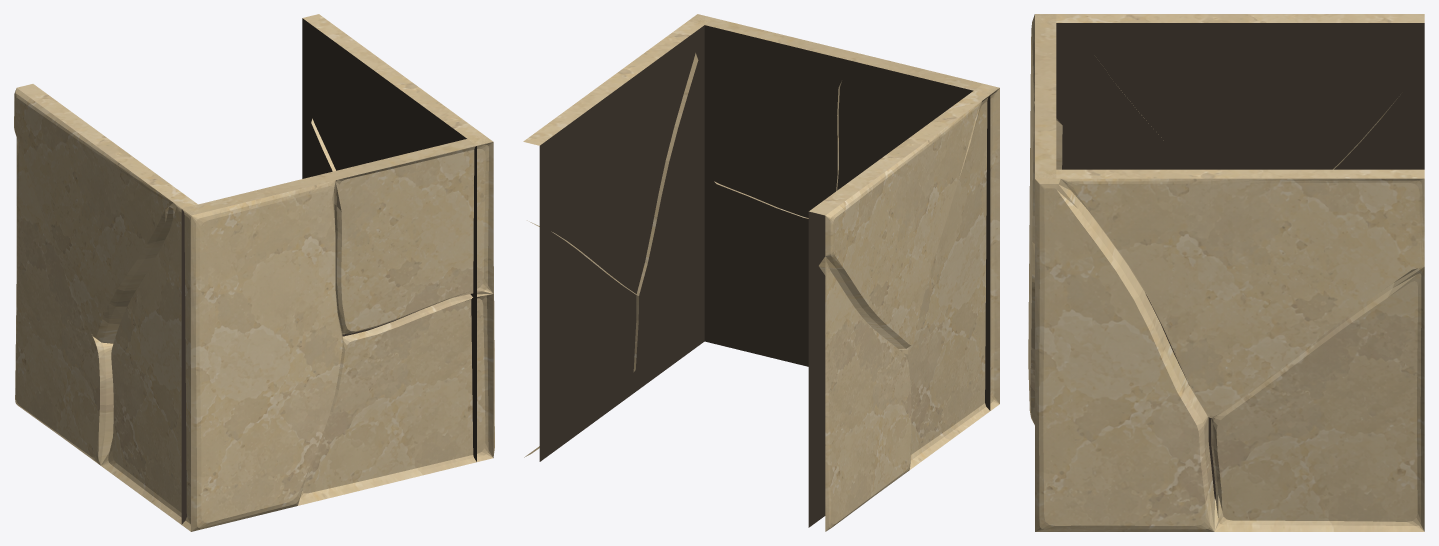
The model's file is ground_square_end_02.glb.
The picture shows the model from 3 angles, left to right: view 1: azimuth 30°, elevation 25°; view 2: azimuth 150°, elevation 25°; view 3: azimuth 270°, elevation 25°; orthographic projection. The views are drawn at different scales.
Visible parts, largest first — view 1: GroundSquareEnd02_Body; view 2: GroundSquareEnd02_Body; view 3: GroundSquareEnd02_Body.
Part boxes in pixels (x1=…): GroundSquareEnd02_Body: x1=14, y1=14, x2=494, y2=531; GroundSquareEnd02_Body: x1=523, y1=14, x2=999, y2=531; GroundSquareEnd02_Body: x1=1028, y1=14, x2=1424, y2=531.
Size of the model in its own units: 1.03 by 1 by 1.02.
Materials: 11 (10 with a texture image).
